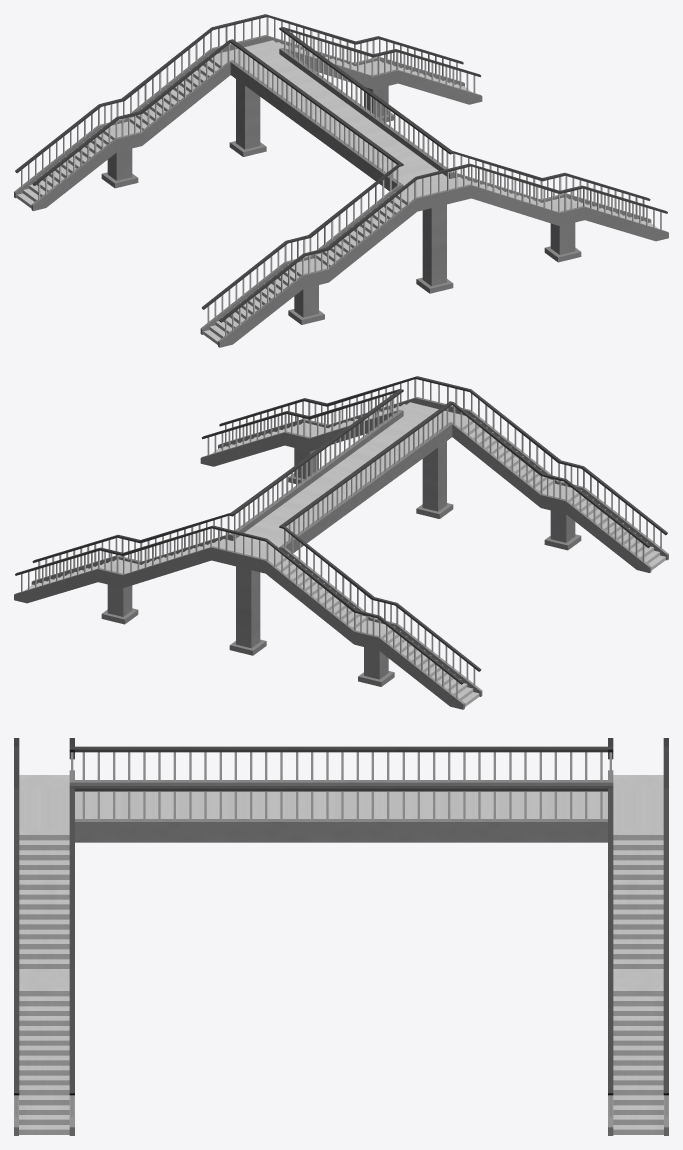
File: overpass_4road.fbx
The picture shows the model from 3 angles, top to bottom: view 1: azimuth 30°, elevation 25°; view 2: azimuth 150°, elevation 25°; view 3: azimuth 270°, elevation 25°; orthographic projection. The views are drawn at different scales.
Parts seen in each view (by area): view 1: overstair01, overstair02, overplatform01, overplatform03, overplatform04, overplatform02, overplatform05; view 2: overstair02, overstair01, overplatform03, overplatform05, overplatform04, overplatform02, overplatform01; view 3: overstair02, overstair01, overplatform02, overplatform04, overplatform05, overplatform03, overplatform01.
Part boxes in pixels (box(x1,y1,x2,y2)): overstair01: box(200, 150, 668, 347); overstair02: box(14, 14, 482, 210); overplatform01: box(230, 28, 317, 99); overplatform03: box(297, 77, 384, 148); overplatform04: box(331, 102, 418, 172); overplatform02: box(264, 53, 351, 123); overplatform05: box(364, 126, 451, 190); overstair02: box(14, 512, 482, 709); overstair01: box(200, 376, 668, 572); overplatform03: box(298, 439, 385, 510); overplatform05: box(365, 390, 452, 461); overplatform04: box(331, 414, 418, 485); overplatform02: box(264, 464, 351, 534); overplatform01: box(231, 488, 318, 552); overstair02: box(608, 738, 668, 1135); overstair01: box(14, 738, 74, 1135); overplatform02: box(394, 746, 501, 842); overplatform04: box(181, 746, 288, 842); overplatform05: box(74, 746, 181, 842); overplatform03: box(288, 746, 394, 842); overplatform01: box(501, 746, 607, 842).
Bounding box in the file's own units: 2444 × 633 × 1938.
